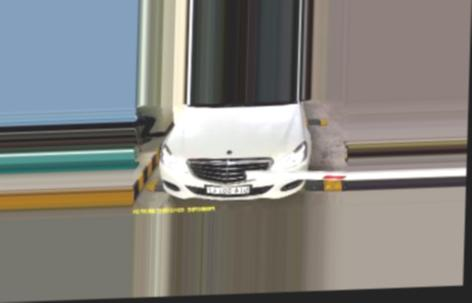License_Plate: (201, 183, 251, 197)
